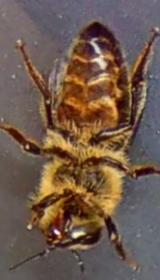varroa_mite: (51, 97, 74, 137)
